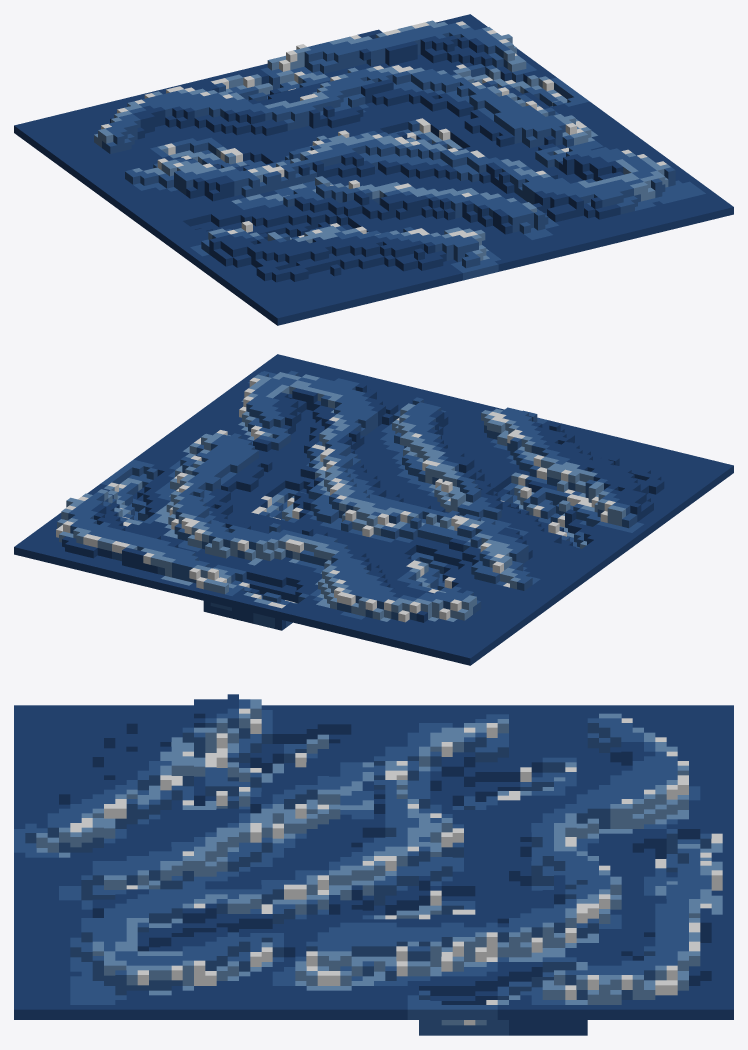
The model's file is water.gltf.
The picture shows the model from 3 angles, top to bottom: view 1: azimuth 30°, elevation 25°; view 2: azimuth 150°, elevation 25°; view 3: azimuth 270°, elevation 25°; orthographic projection. The views are drawn at different scales.
Visible parts, largest first — view 1: sea; view 2: sea; view 3: sea.
Part boxes in pixels (x1,y1,x2,y2): sea: (14,14,733,325); sea: (14,354,733,665); sea: (14,694,733,1035).
Size of the model in its own units: 64 by 5 by 64.
